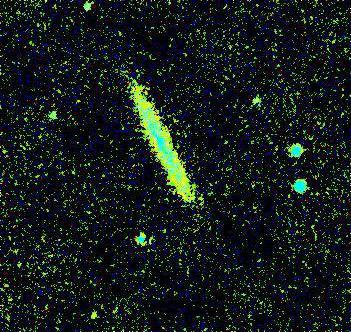star: (66, 89, 96, 119)
